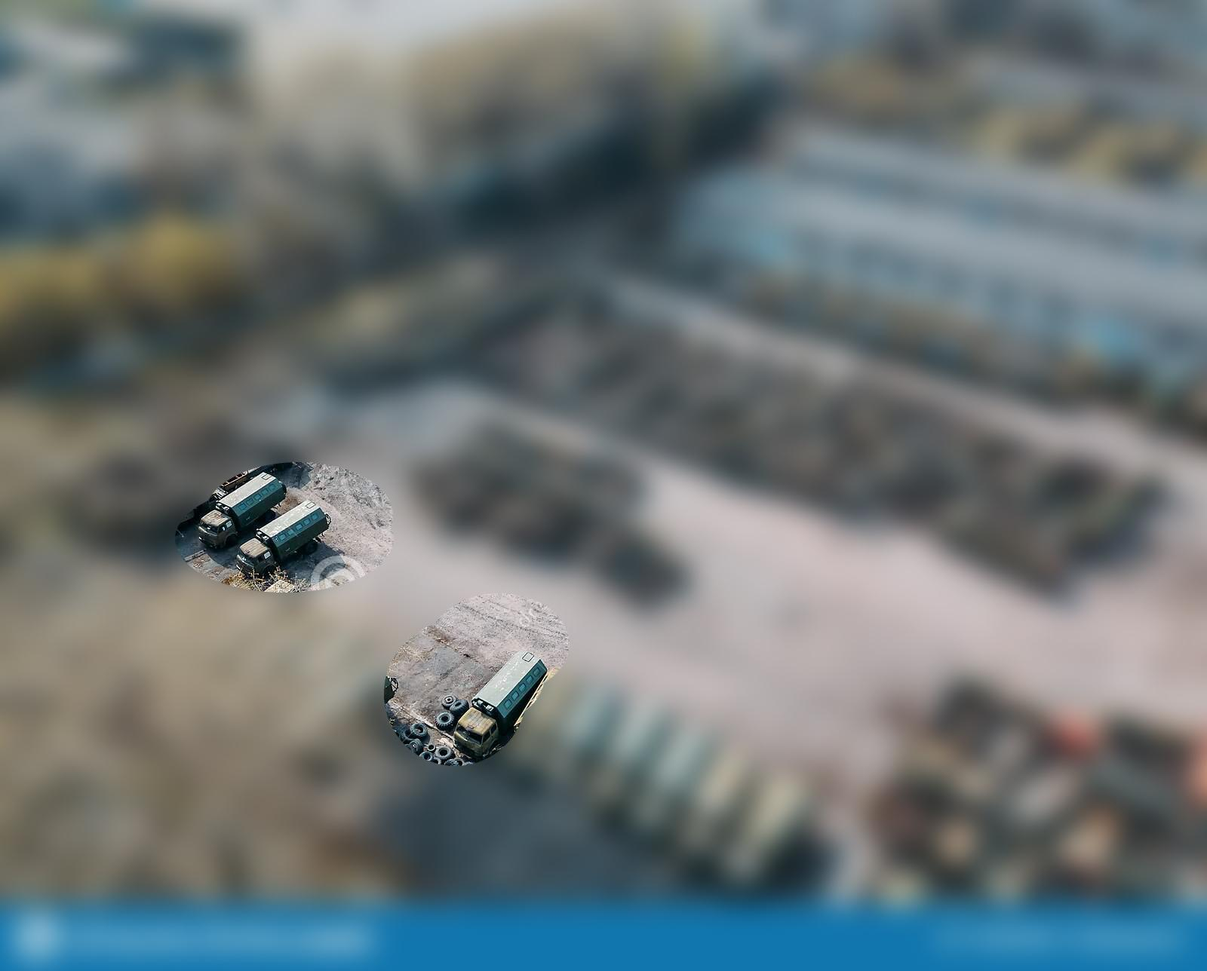truck: (440, 652, 555, 766), (176, 450, 284, 559)
